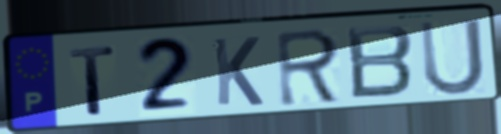2: (132, 34, 201, 120)
B: (343, 22, 416, 102)
K: (209, 35, 266, 109)
R: (274, 26, 345, 109)
T: (67, 44, 119, 118)
U: (417, 16, 488, 99)
